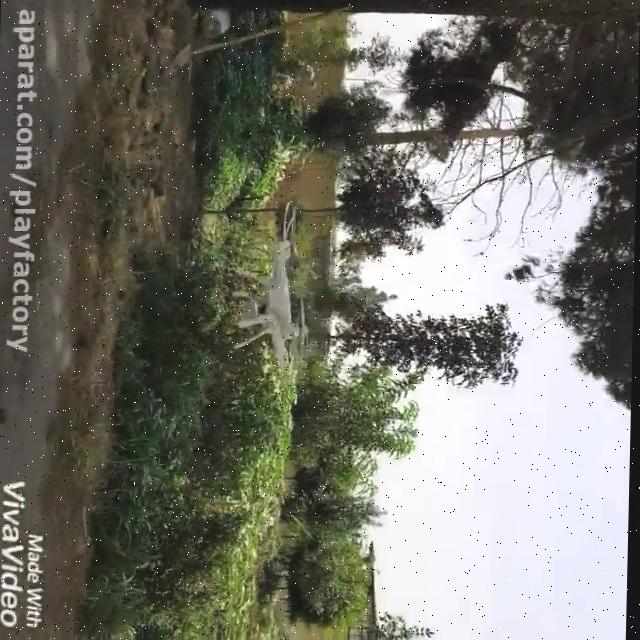drone: (236, 201, 311, 375)
